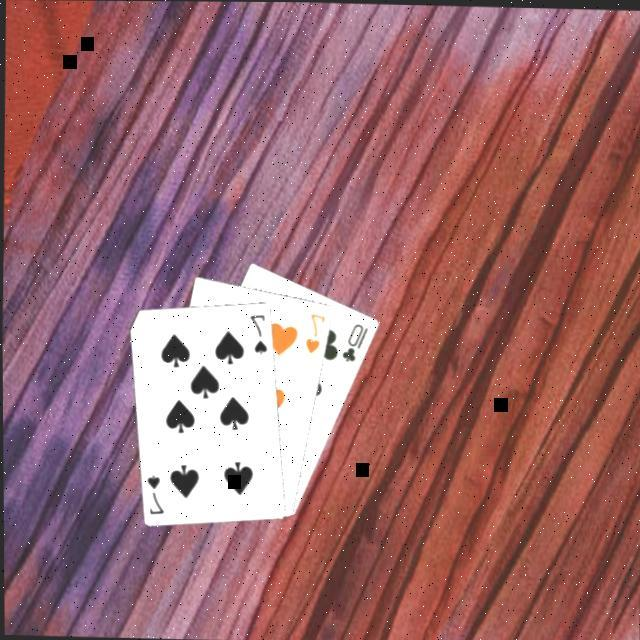10C: (340, 317, 372, 364)
7H: (303, 308, 330, 356)
7S: (144, 469, 168, 516), (248, 309, 272, 355)
